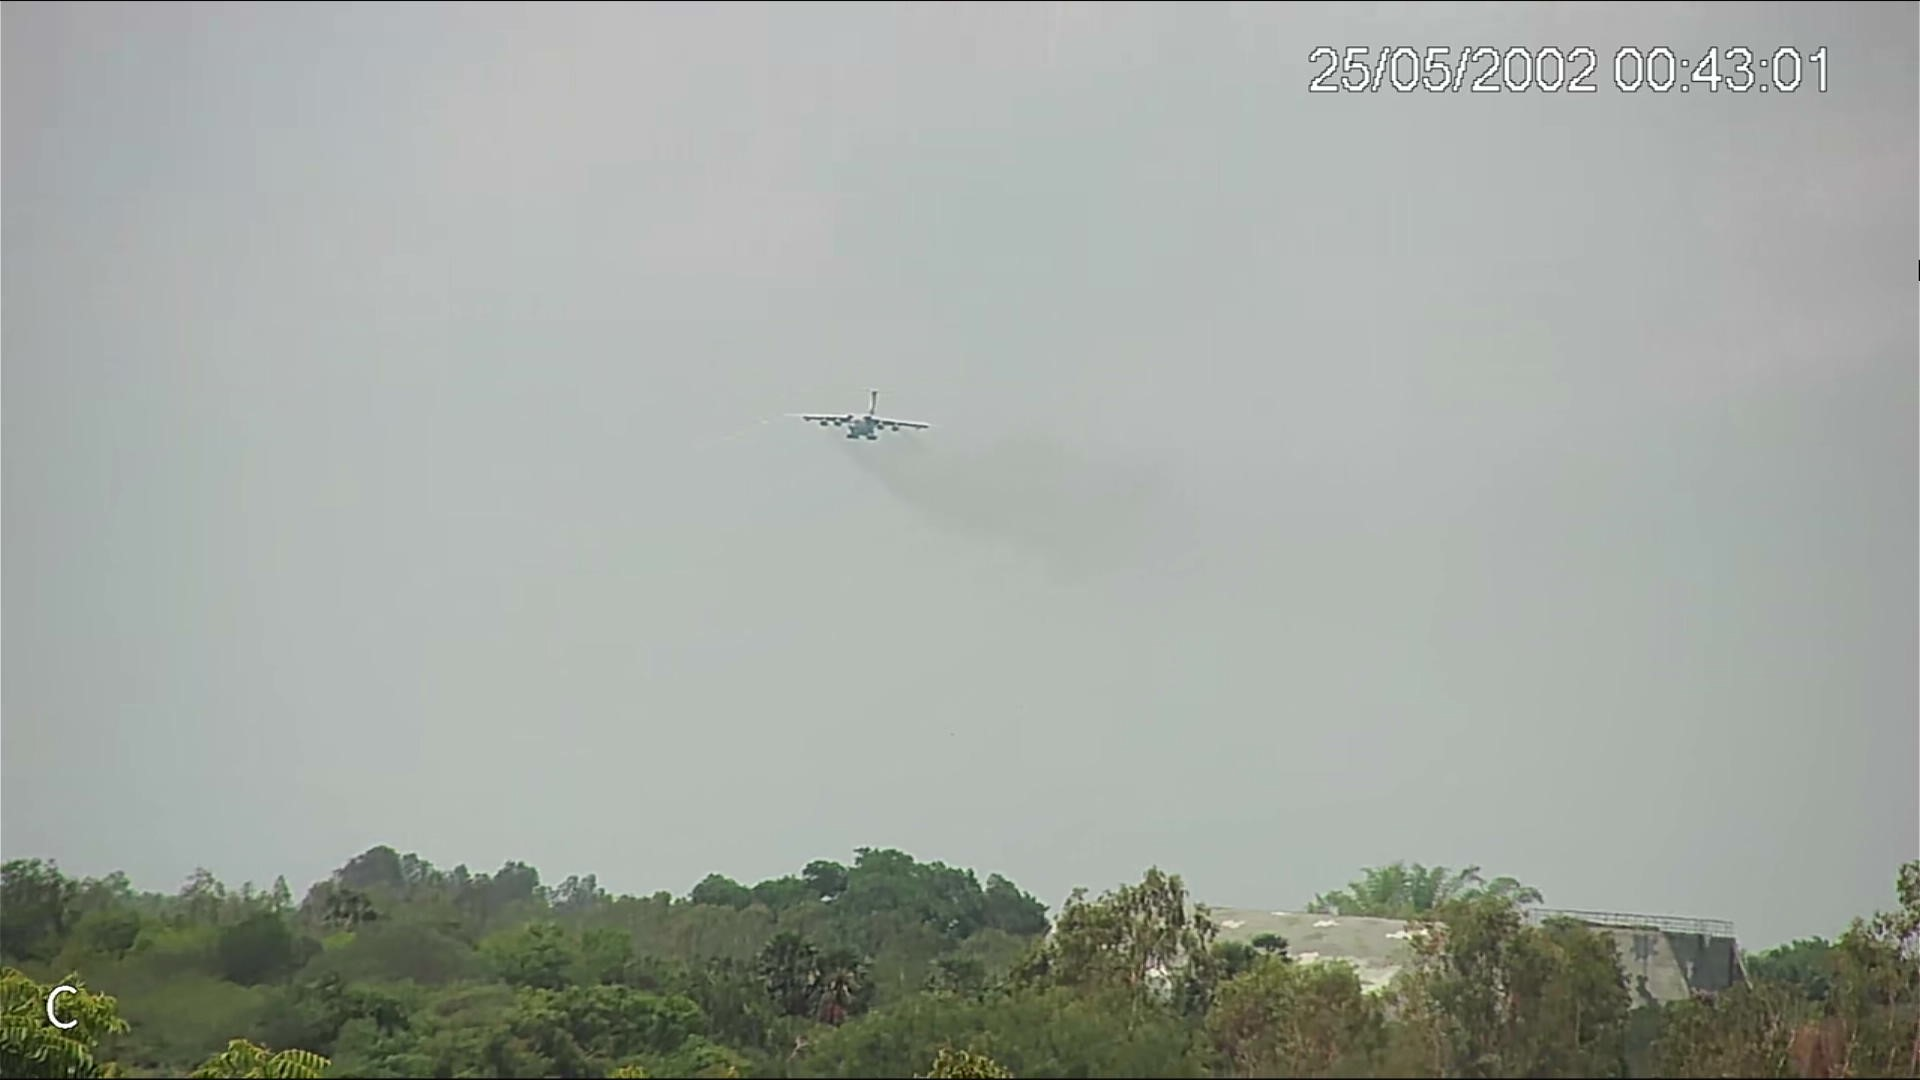SU_30: (789, 386, 940, 444)
